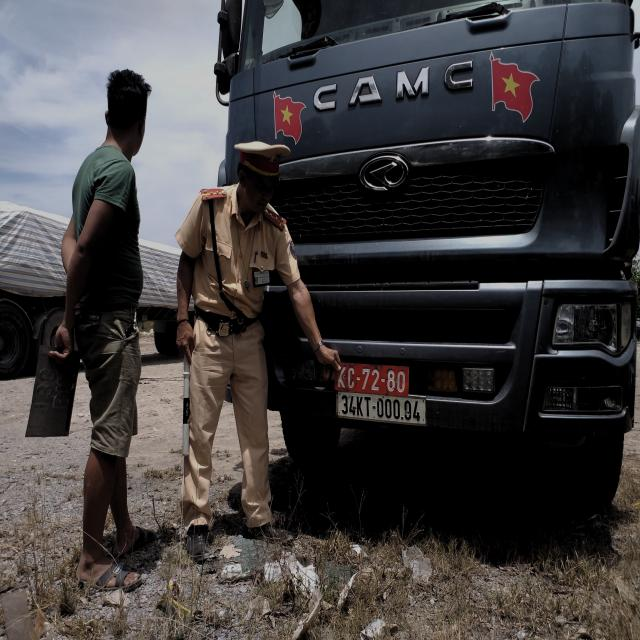bien_do: (333, 360, 409, 392)
bien_trang: (338, 392, 426, 424)
